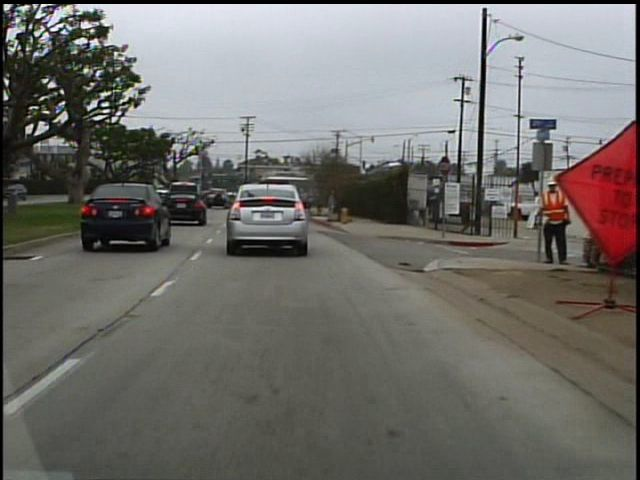person: (529, 185, 566, 269)
